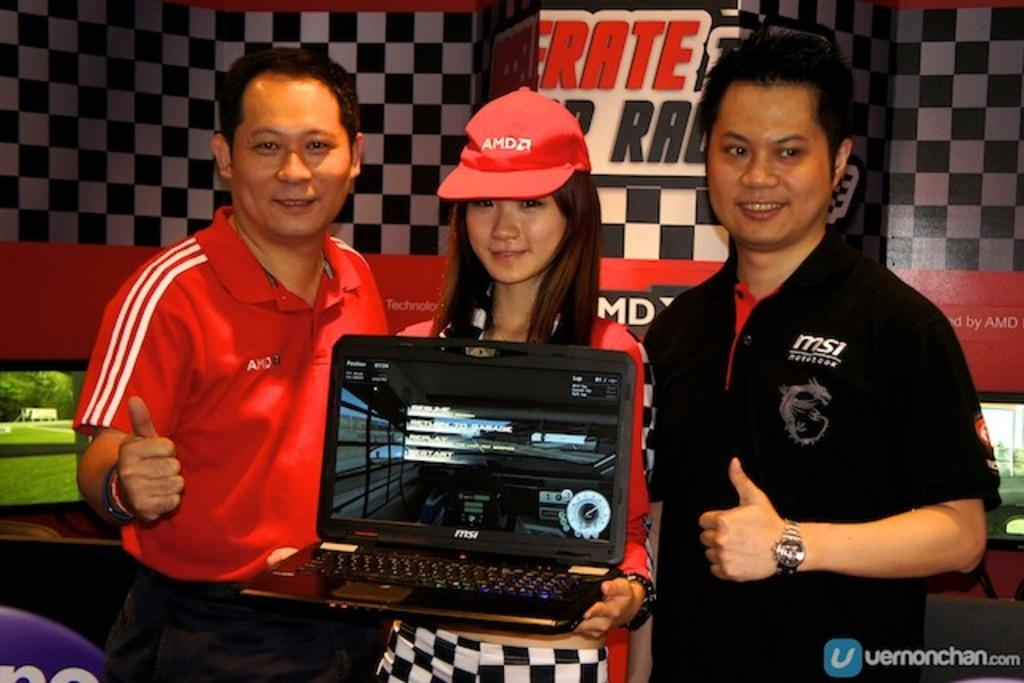Hat: (438, 86, 592, 201)
